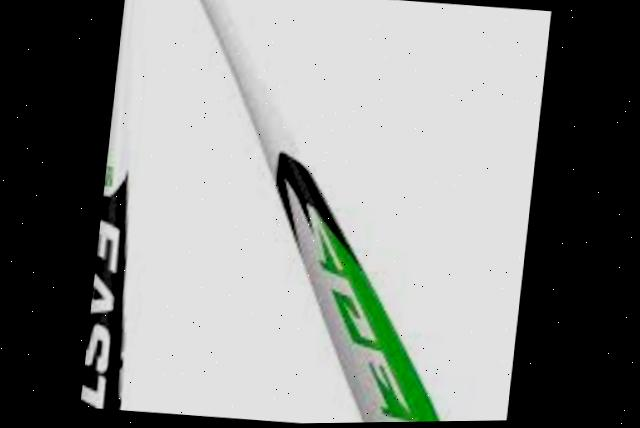baseball bat: (200, 0, 436, 424), (81, 0, 142, 411)
